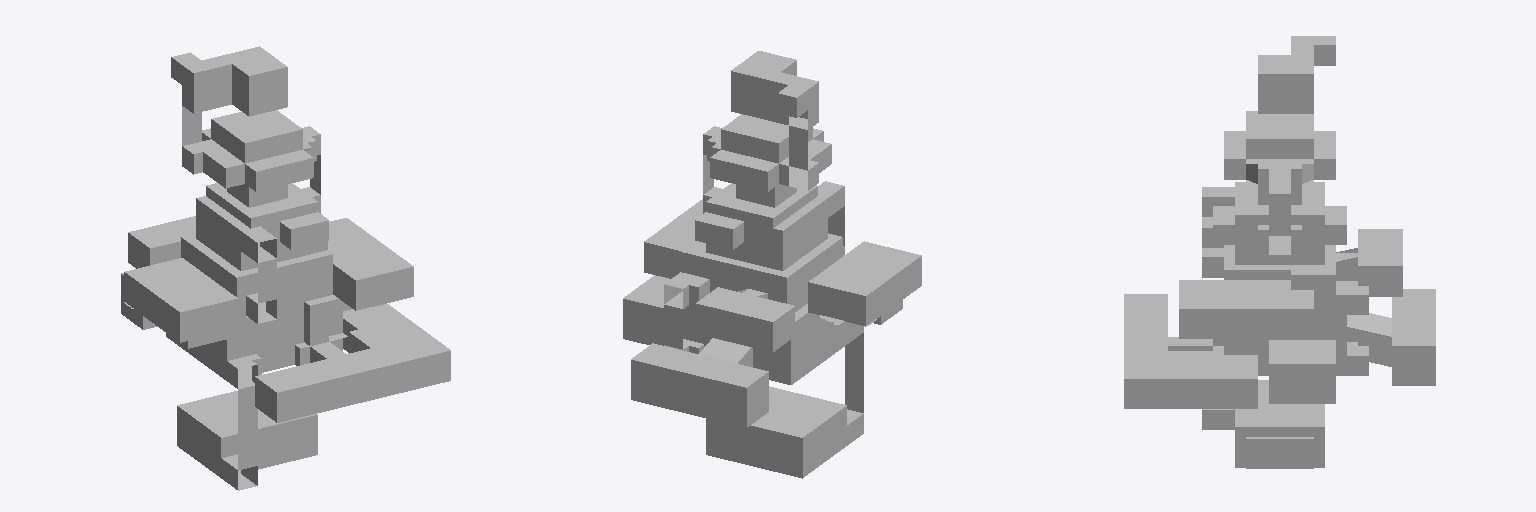
The model's file is tree-0x-visual.obj.
3 views of the same model, side by side, from view 1: azimuth 30°, elevation 25°; view 2: azimuth 150°, elevation 25°; view 3: azimuth 270°, elevation 25° (orthographic).
Parts seen in each view (by area): view 1: Plane.806_Plane.880, Plane.191_Plane.995, Plane.669_Plane.896, Plane.671_Plane.897, Plane.359_Plane.735, Plane.406_Plane.1006, Plane.1326_Plane.476, Plane.1324_Plane.471, Plane.1325_Plane.472, Plane.152_Plane.169, Plane.1328_Plane.1381, Plane.190_Plane.994 (+2 smaller); view 2: Plane.159_Plane.179, Plane.132_Plane.018, Plane.821_Plane.874, Plane.806_Plane.880, Plane.192_Plane.736, Plane.805_Plane.879, Plane.1328_Plane.1381, Plane.426_Plane.1382, Plane.1326_Plane.476, Plane.191_Plane.995, Plane.1325_Plane.472; view 3: Plane.806_Plane.880, Plane.406_Plane.1006, Plane.217_Plane.1068, Plane.821_Plane.874, Plane.192_Plane.736, Plane.159_Plane.179, Plane.132_Plane.018, Plane.1327_Plane.1380, Plane.207_Plane.1060, Plane.191_Plane.995, Plane.043_Plane.729, Plane.359_Plane.735 (+1 smaller).
Boxes of the visible parts, x1,y1,x2,y2 form: Plane.806_Plane.880: [128, 216, 195, 248]; Plane.191_Plane.995: [241, 226, 276, 262]; Plane.669_Plane.896: [217, 305, 245, 341]; Plane.671_Plane.897: [188, 312, 216, 348]; Plane.359_Plane.735: [221, 454, 257, 490]; Plane.406_Plane.1006: [333, 264, 413, 290]; Plane.1326_Plane.476: [238, 425, 257, 470]; Plane.1324_Plane.471: [258, 259, 276, 303]; Plane.1325_Plane.472: [238, 386, 257, 429]; Plane.152_Plane.169: [227, 354, 260, 389]; Plane.1328_Plane.1381: [182, 106, 201, 145]; Plane.190_Plane.994: [246, 293, 276, 323]; Plane.159_Plane.179: [631, 380, 768, 427]; Plane.132_Plane.018: [631, 360, 768, 407]; Plane.821_Plane.874: [696, 314, 794, 351]; Plane.806_Plane.880: [696, 287, 794, 321]; Plane.192_Plane.736: [664, 272, 709, 308]; Plane.805_Plane.879: [696, 304, 794, 331]; Plane.1328_Plane.1381: [789, 126, 807, 170]; Plane.426_Plane.1382: [664, 305, 682, 349]; Plane.1326_Plane.476: [845, 368, 863, 412]; Plane.191_Plane.995: [818, 181, 844, 217]; Plane.1325_Plane.472: [845, 333, 863, 372]; Plane.806_Plane.880: [1336, 229, 1402, 265]; Plane.406_Plane.1006: [1179, 309, 1313, 318]; Plane.217_Plane.1068: [1246, 159, 1313, 193]; Plane.821_Plane.874: [1336, 262, 1402, 296]; Plane.192_Plane.736: [1336, 281, 1368, 314]; Plane.159_Plane.179: [1392, 366, 1435, 385]; Plane.132_Plane.018: [1392, 346, 1435, 365]; Plane.1327_Plane.1380: [1269, 194, 1290, 233]; Plane.207_Plane.1060: [1258, 225, 1301, 254]; Plane.191_Plane.995: [1202, 187, 1234, 216]; Plane.043_Plane.729: [1347, 342, 1368, 375]; Plane.359_Plane.735: [1202, 409, 1234, 429].
Bounding box in the file's own units: 48.49 × 76 × 56.